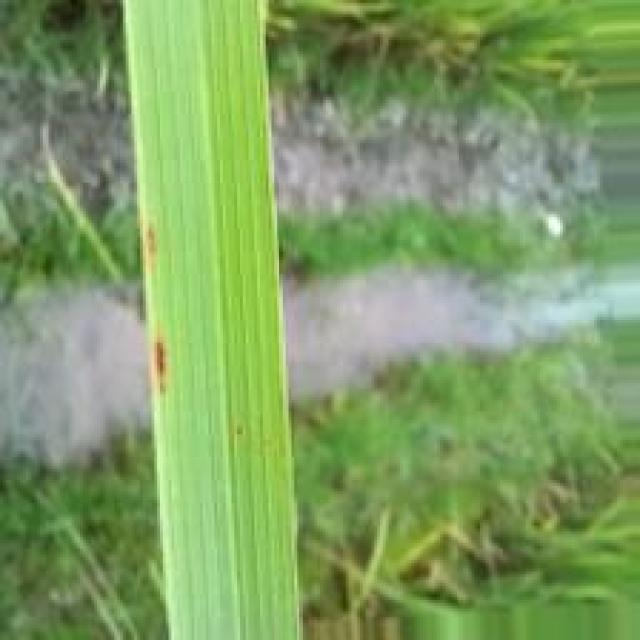Brown_Spot: (149, 330, 172, 401), (142, 222, 160, 279)
